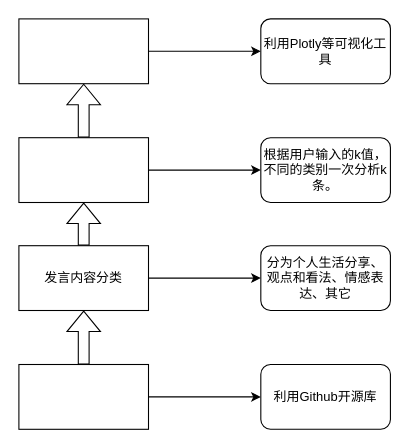
Some shapes in this 409 by 448 pixel diagram are drawn without their labels. Each missing label, with the centre of its shape:
原始用户微博内容: the point at 83,396
多维度分析: the point at 83,169
结果整合与可视化: the point at 83,51
